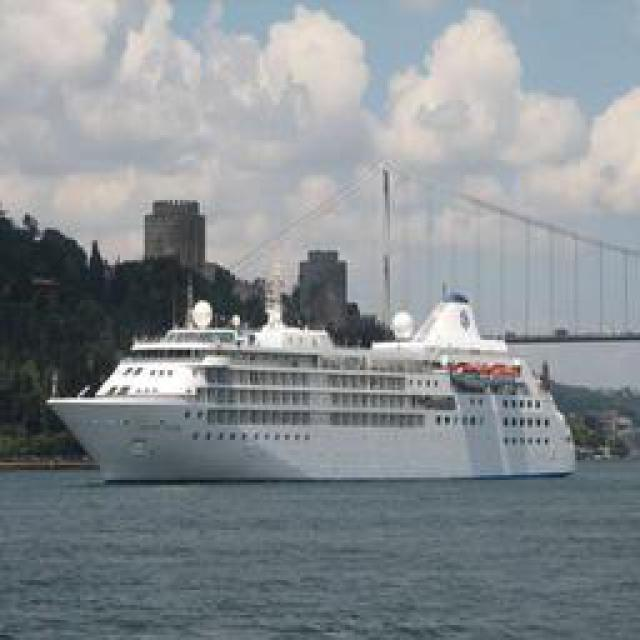Ship: (55, 290, 585, 485)
